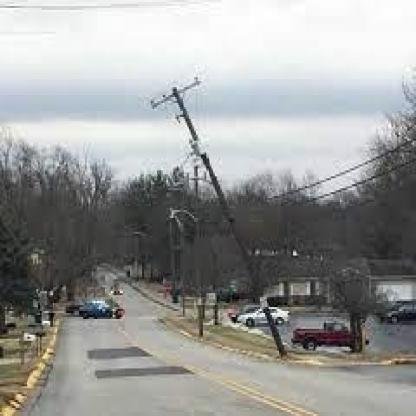Electrical Pole: (145, 70, 311, 370)
